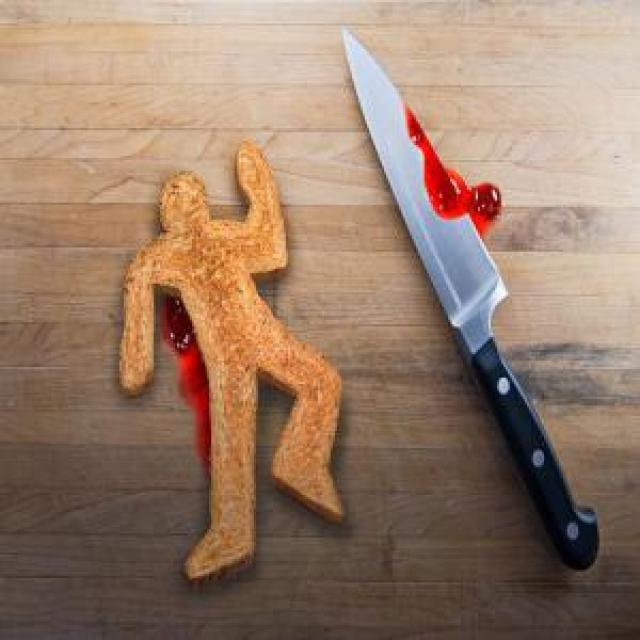knife: (341, 21, 603, 576)
